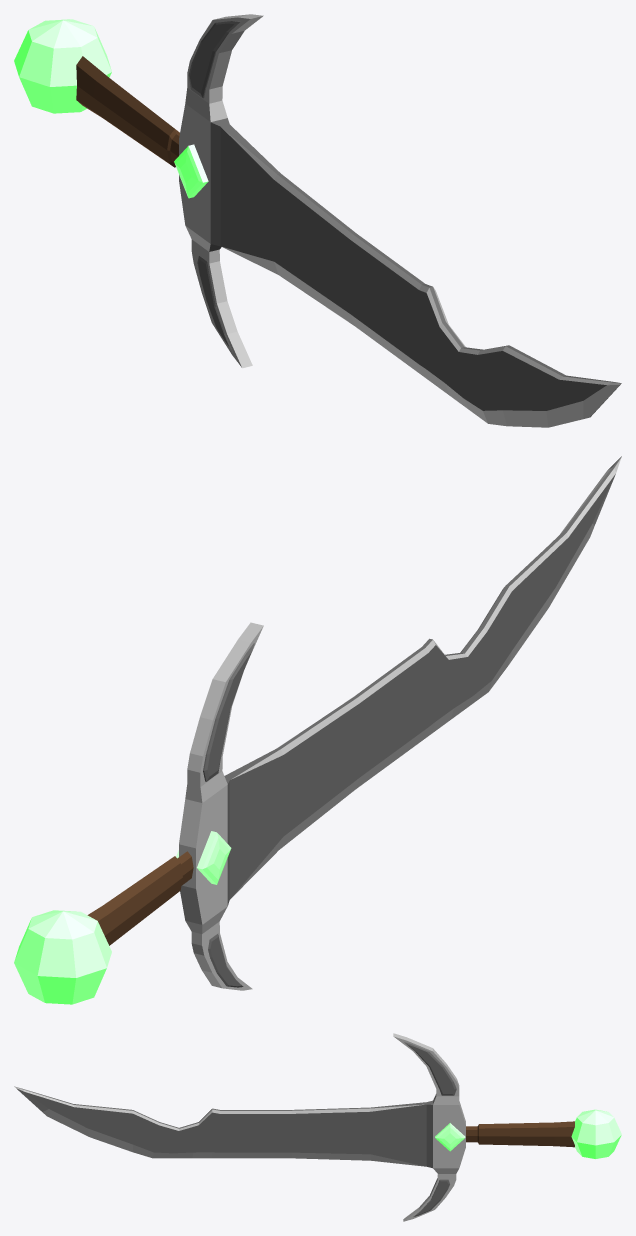
The model's file is Sword.fbx.
3 renders of one model, top to bottom at view 1: azimuth 30°, elevation 25°; view 2: azimuth 150°, elevation 25°; view 3: azimuth 270°, elevation 25°, orthographic. The views are drawn at different scales.
Parts seen in each view (by area): view 1: Cylinder; view 2: Cylinder; view 3: Cylinder.
Part boxes in pixels (left/top/right/bottom): Cylinder: left=14, top=14, right=621, bottom=427; Cylinder: left=14, top=456, right=621, bottom=1004; Cylinder: left=14, top=1033, right=621, bottom=1221.
Size of the model in its own units: 80 by 310 by 920.
